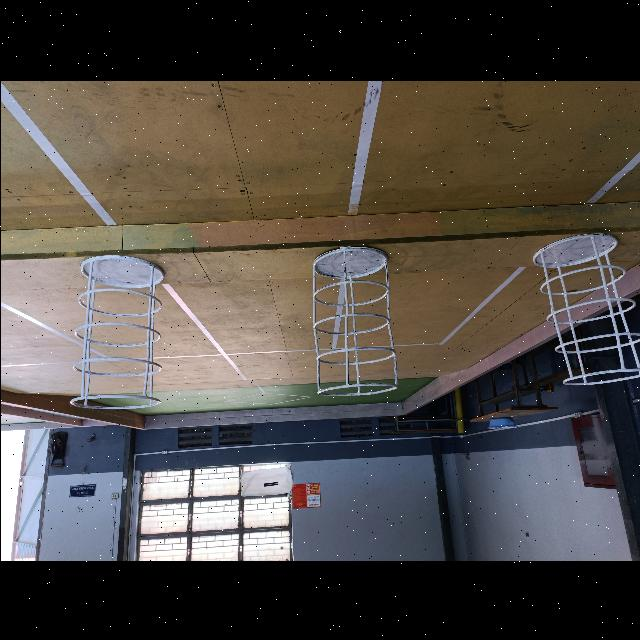S: (528, 230, 640, 387), (68, 250, 165, 411), (309, 244, 403, 400)
